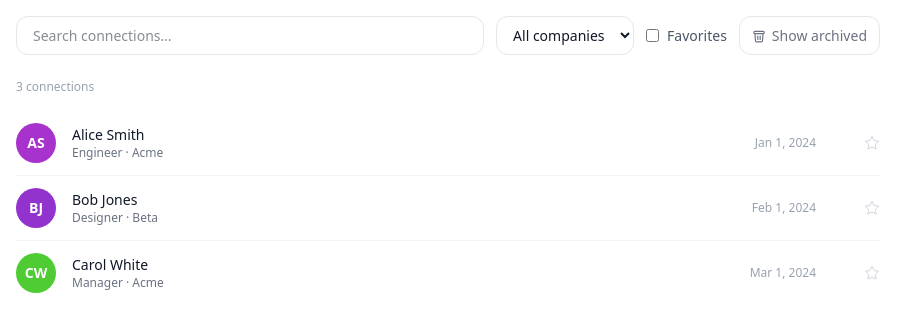
Scenario: SearchView › toggling the favorites filter hides non-favorited connections
Click the checkbox labelled "Favorites" at coordinates (653, 36), box [646,29,659,42]
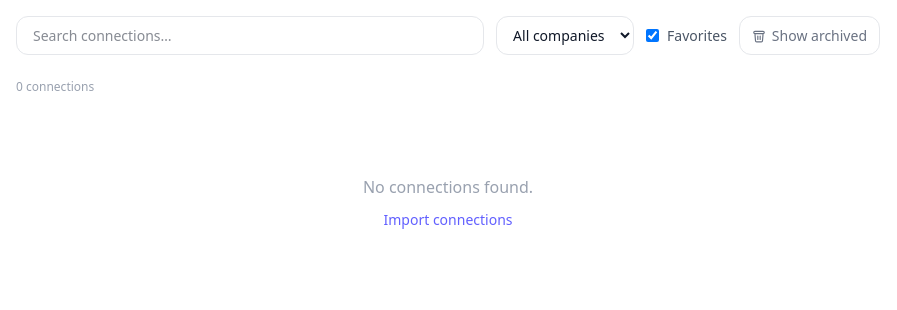
Expected: the link "Alice Smith" is gone
